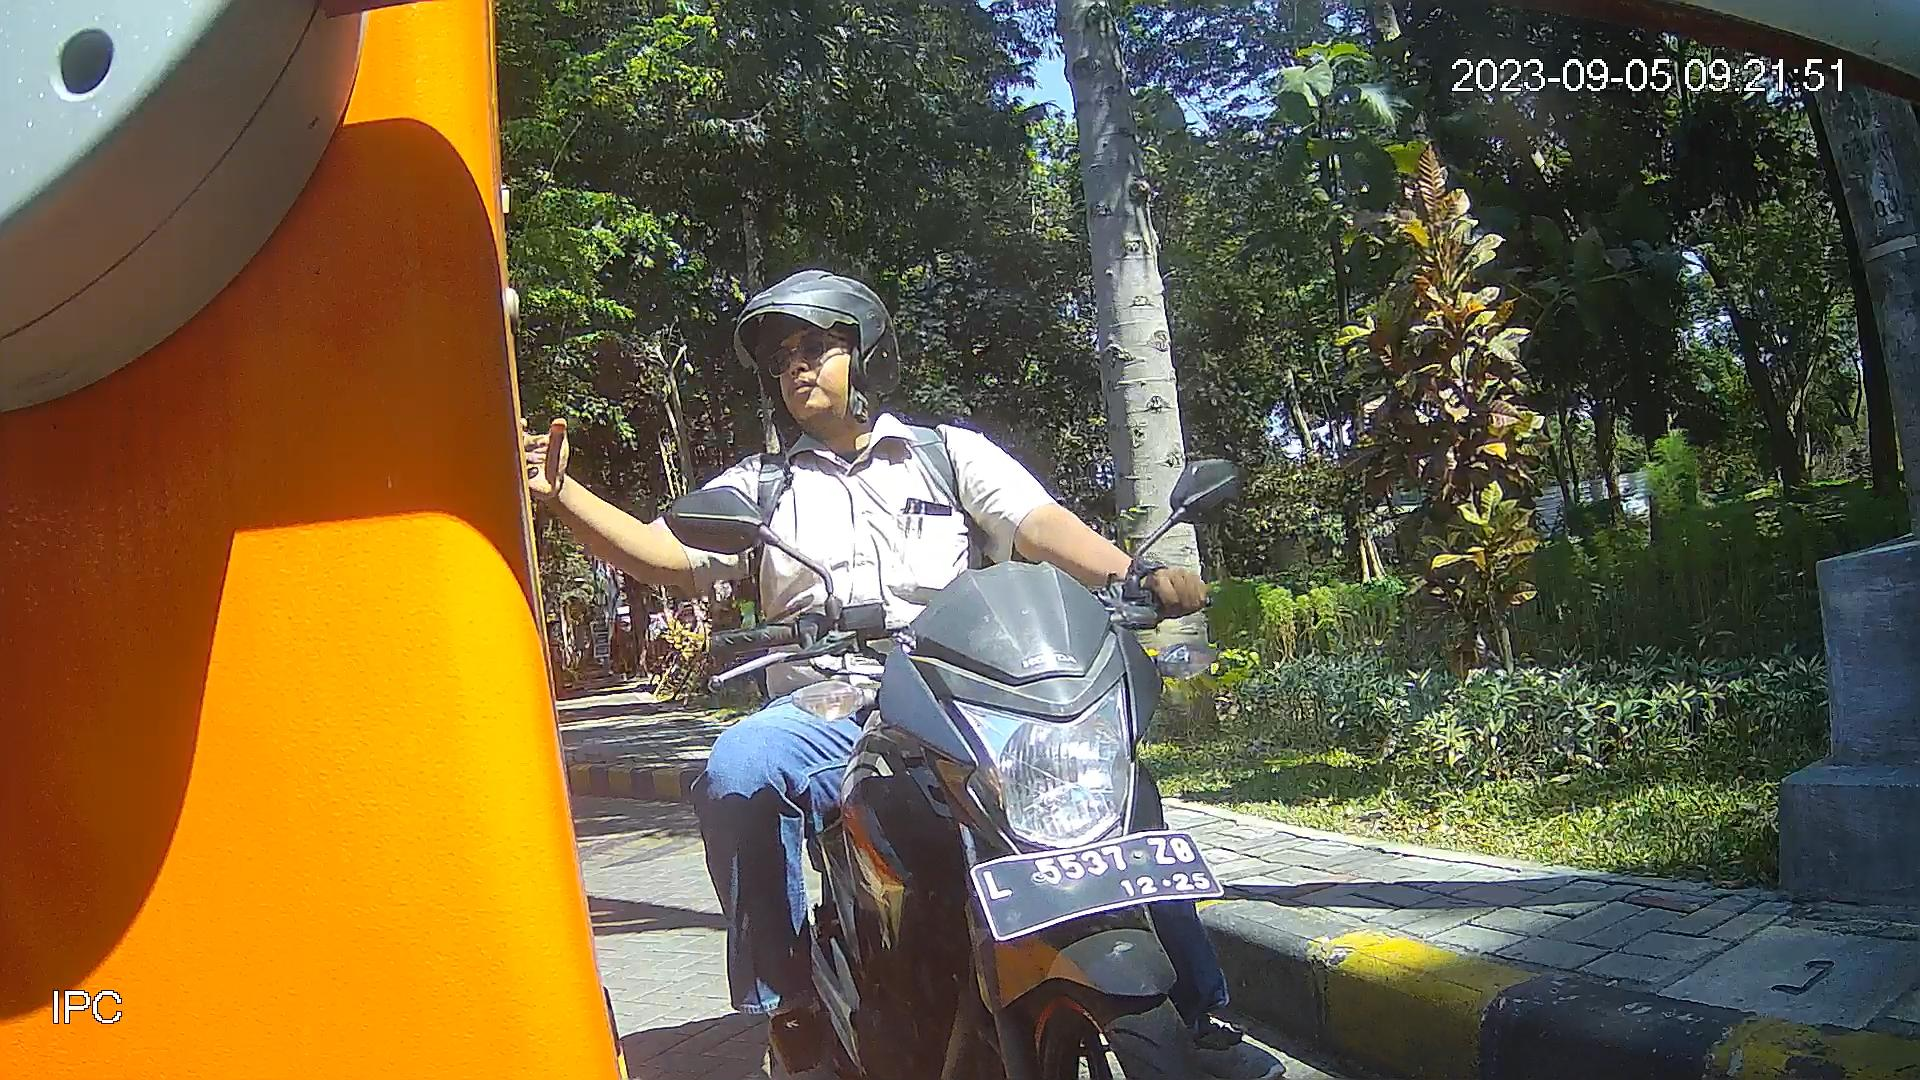plat: (964, 825, 1229, 943)
